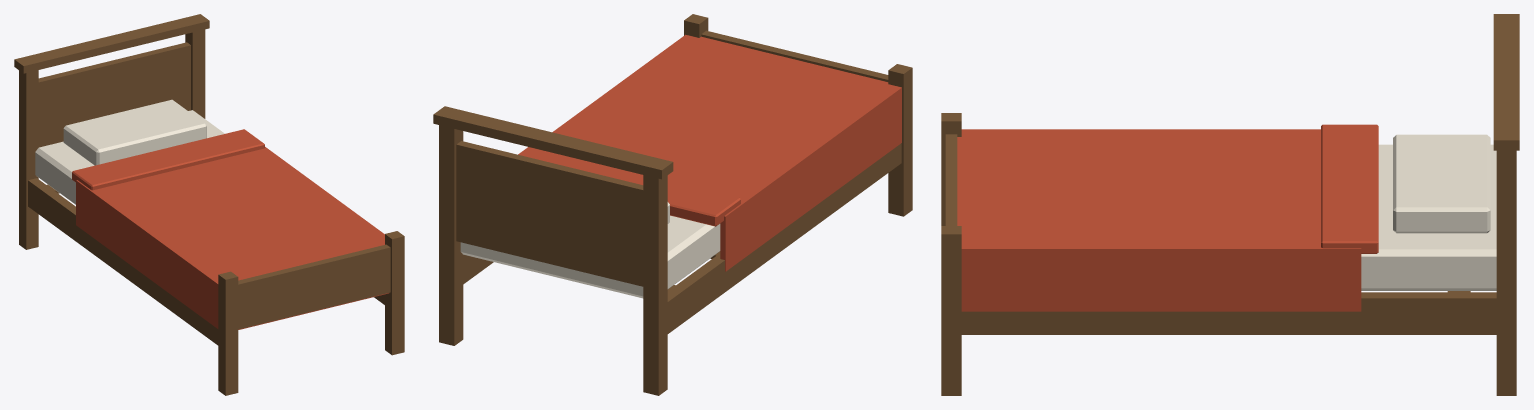
Rendered from Prop_YTM_LoftBed.glb.
The picture shows the model from 3 angles, left to right: view 1: azimuth 30°, elevation 25°; view 2: azimuth 150°, elevation 25°; view 3: azimuth 270°, elevation 25°; orthographic projection. The views are drawn at different scales.
Parts seen in each view (by area): view 1: Prop_YTM_LoftBed; view 2: Prop_YTM_LoftBed; view 3: Prop_YTM_LoftBed.
Boxes of the visible parts, <box> form: Prop_YTM_LoftBed: <box>14,14,404,395</box>; Prop_YTM_LoftBed: <box>433,14,912,395</box>; Prop_YTM_LoftBed: <box>941,14,1519,395</box>.
Size of what is drawn, in the model's own units: 1.04 by 0.99 by 2.01.
